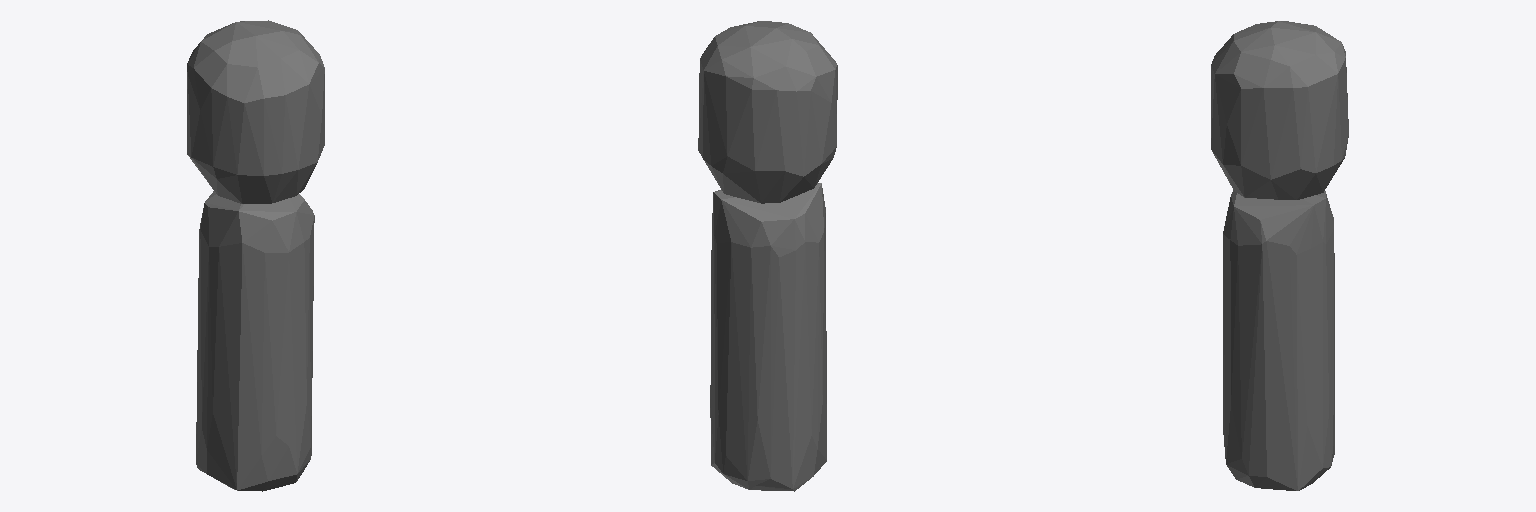
robot.urdf — flashlight_006:
<?xml version="1.0" ?>
<robot name="flashlight_006">
  <material name="color">
    <color rgba=".5 .5 .5 1"/>
  </material>

  <link name="base_link">
    <contact>
      <lateral_friction value="1.0"/>
      <rolling_friction value="0.001"/>
      <spinning_friction value="0.001"/>
      <inertia_scaling value="1.0"/>
    </contact>
    <inertial>
      <origin rpy="0 0 0" xyz="3.59373e-05 0.000117031 0.0133142"/>
       <mass value="0.1"/>
       <inertia ixx="1" ixy="0" ixz="0" iyy="1" iyz="0" izz="1"/>
    </inertial>

    <visual>
      <origin rpy="0 0 0" xyz="0 0 0"/>
      <geometry>
        <mesh filename="flashlight_006_vhacd_0_of_2.obj" scale="1 1 1"/>
      </geometry>
      <material name="color"/>
    </visual>
    <visual>
      <origin rpy="0 0 0" xyz="0 0 0"/>
      <geometry>
        <mesh filename="flashlight_006_vhacd_1_of_2.obj" scale="1 1 1"/>
      </geometry>
      <material name="color"/>
    </visual>

    <collision>
      <origin rpy="0 0 0" xyz="0 0 0"/>
      <geometry>
        <mesh filename="flashlight_006_vhacd_0_of_2.obj" scale="1 1 1"/>
      </geometry>
    </collision>
    <collision>
      <origin rpy="0 0 0" xyz="0 0 0"/>
      <geometry>
        <mesh filename="flashlight_006_vhacd_1_of_2.obj" scale="1 1 1"/>
      </geometry>
    </collision>

  </link>
</robot>

--- Render facts (derived) ---
Views: 3 orthographic renders of the robot side by side, from view 1: azimuth 30°, elevation 25°; view 2: azimuth 150°, elevation 25°; view 3: azimuth 270°, elevation 25°.
Model flashlight_006 with 1 links and 0 joints (none), rooted at base_link, posed all joints at 0.
Links seen in each view (by area): view 1: base_link; view 2: base_link; view 3: base_link.
Boxes of the visible links, left/top/right/bottom form: base_link: left=187, top=20, right=324, bottom=491; base_link: left=698, top=21, right=837, bottom=491; base_link: left=1211, top=21, right=1348, bottom=490.
Size in the robot's own frame: 0.044 by 0.0451 by 0.1616 metres.
2 mesh visuals loaded from 2 distinct referenced files (2 OBJ).